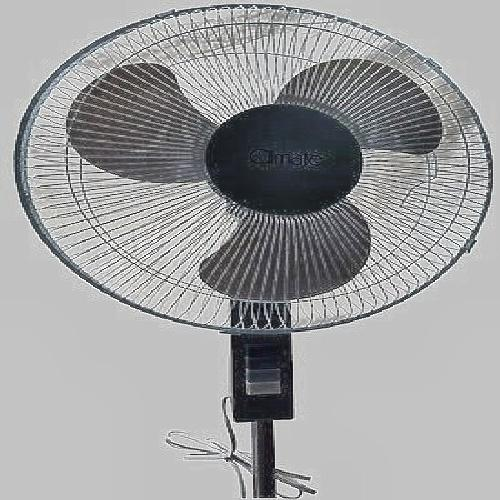fan: (32, 18, 475, 453)
